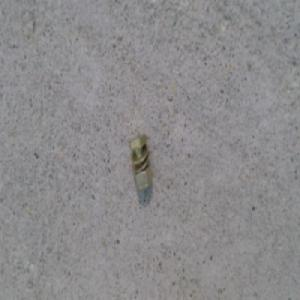BoltNutSet: (128, 135, 153, 193)
